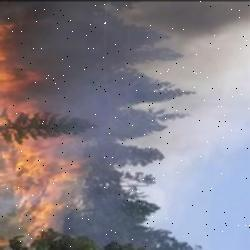fire: (0, 26, 74, 234)
